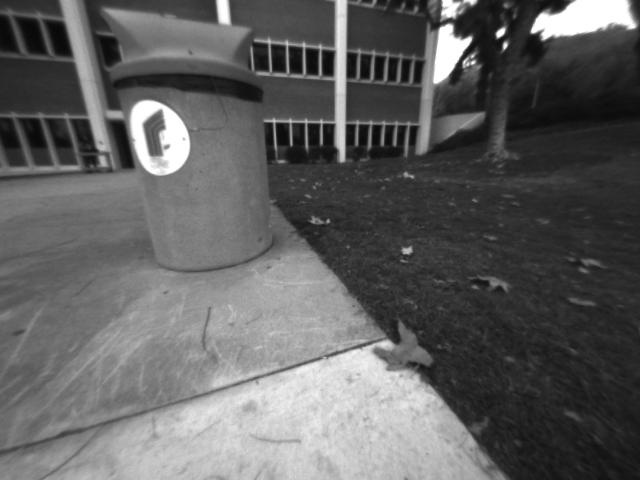trashcan: (83, 5, 305, 278)
